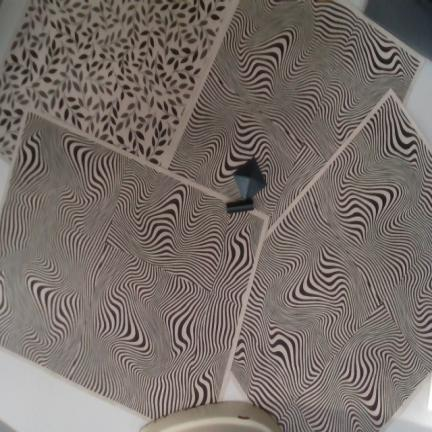Cilindro: (227, 200, 254, 213)
Piramide: (232, 158, 266, 201)
